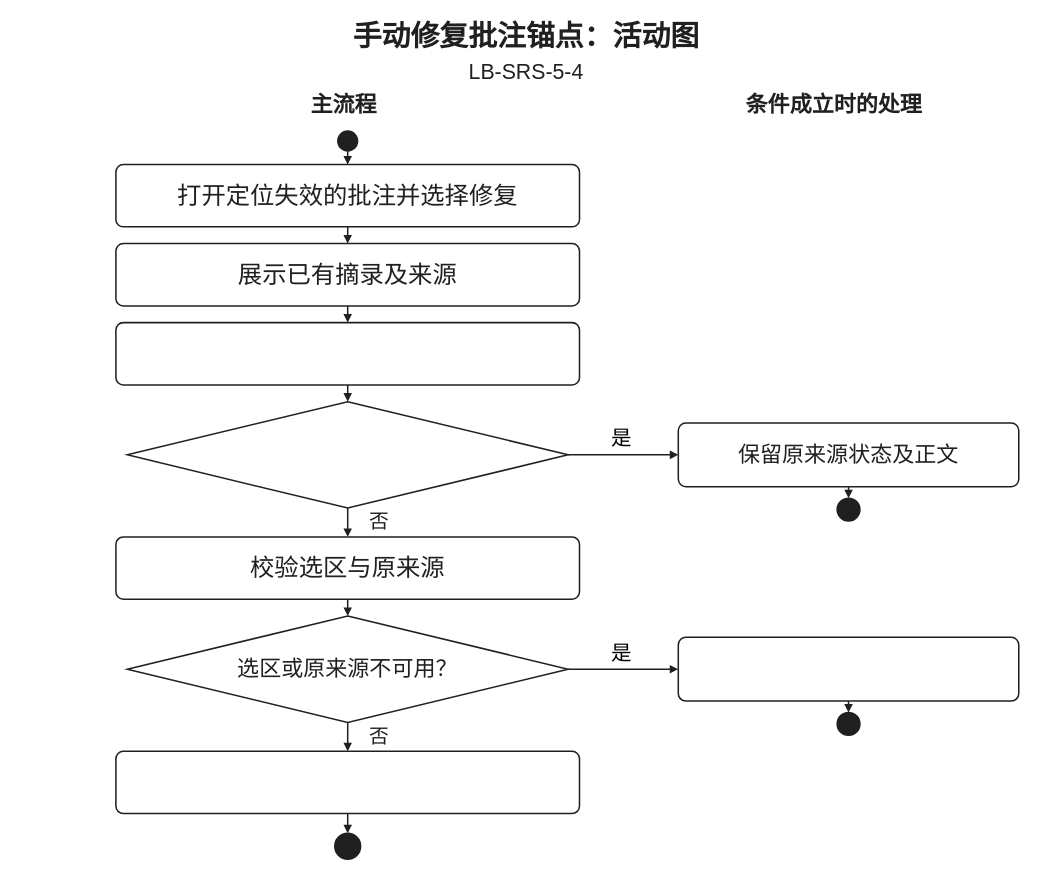
Some shapes in this 1052 by 872 pixel diagram are drawn without their labels. The shapes that lost their labels are listed below. From the top down, each one's centre as x and y in pixels, then its label:
the point at 347,353: 在同一来源选择原文位置并确认
the point at 347,454: 用户取消？
the point at 848,668: 拒绝提交，不更换文献来源
the point at 347,782: 保存新锚点并验证跳转
